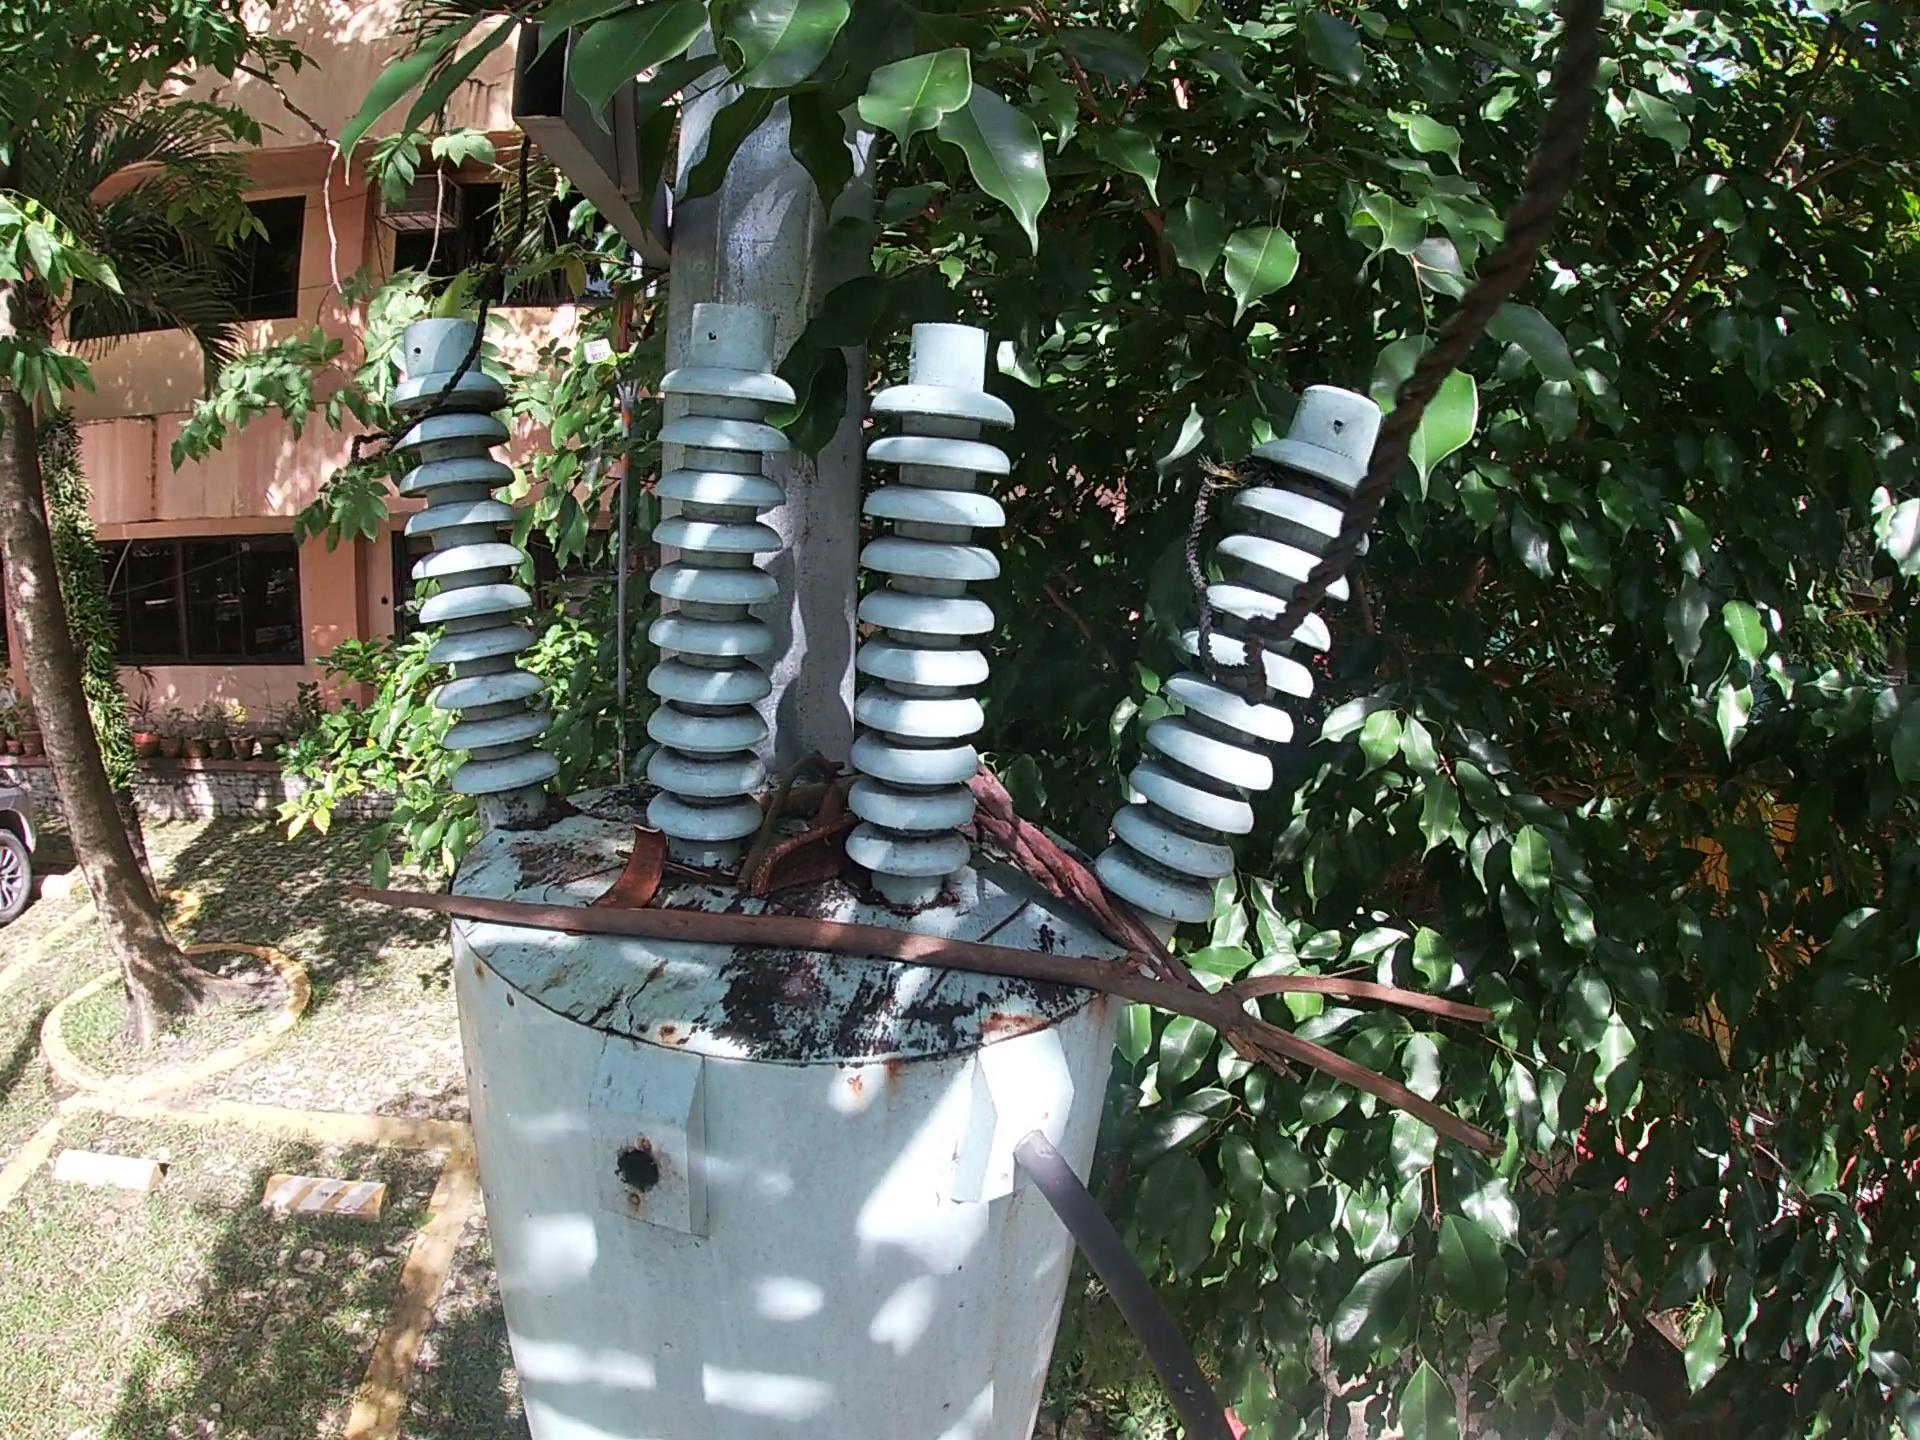leaf: (813, 781, 850, 833)
mahogany fruit: (748, 821, 860, 903), (582, 823, 674, 912)
tree branch: (340, 871, 1515, 1168), (963, 758, 1300, 1091), (732, 749, 850, 894), (759, 776, 869, 827)
